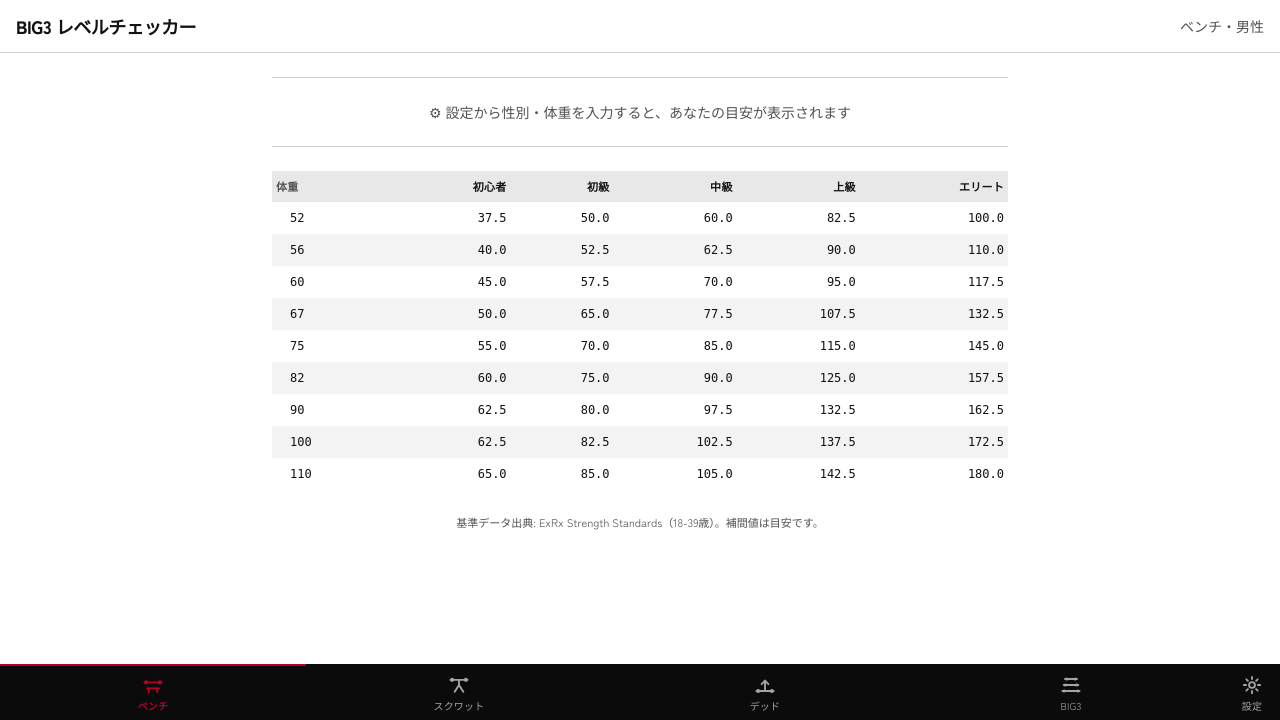
App › 設定で男性・70kg を保存するとサマリーとハイライト行が出る
This screenshot has width=1280, height=720.
Click the button "設定" at (1252, 692), box [1224,664,1279,719]
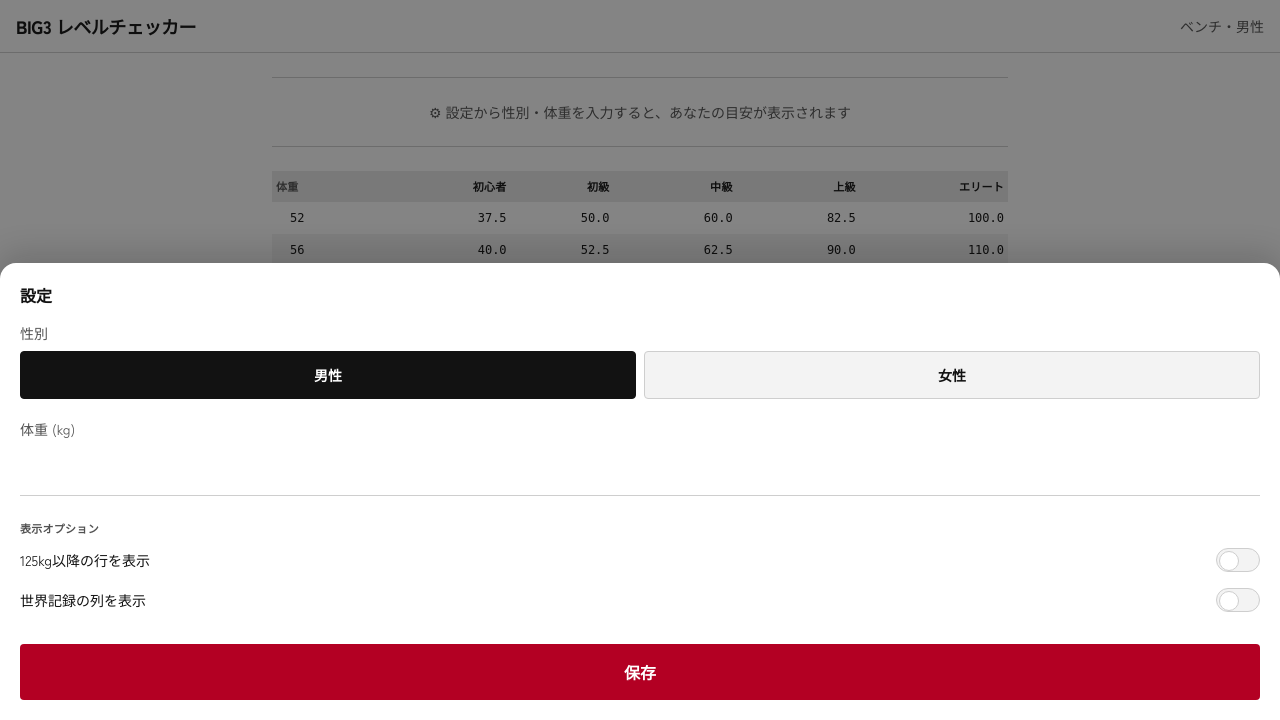
Type "70" into the number field labelled "体重 (kg)" at (640, 469), box [20,442,1260,496]
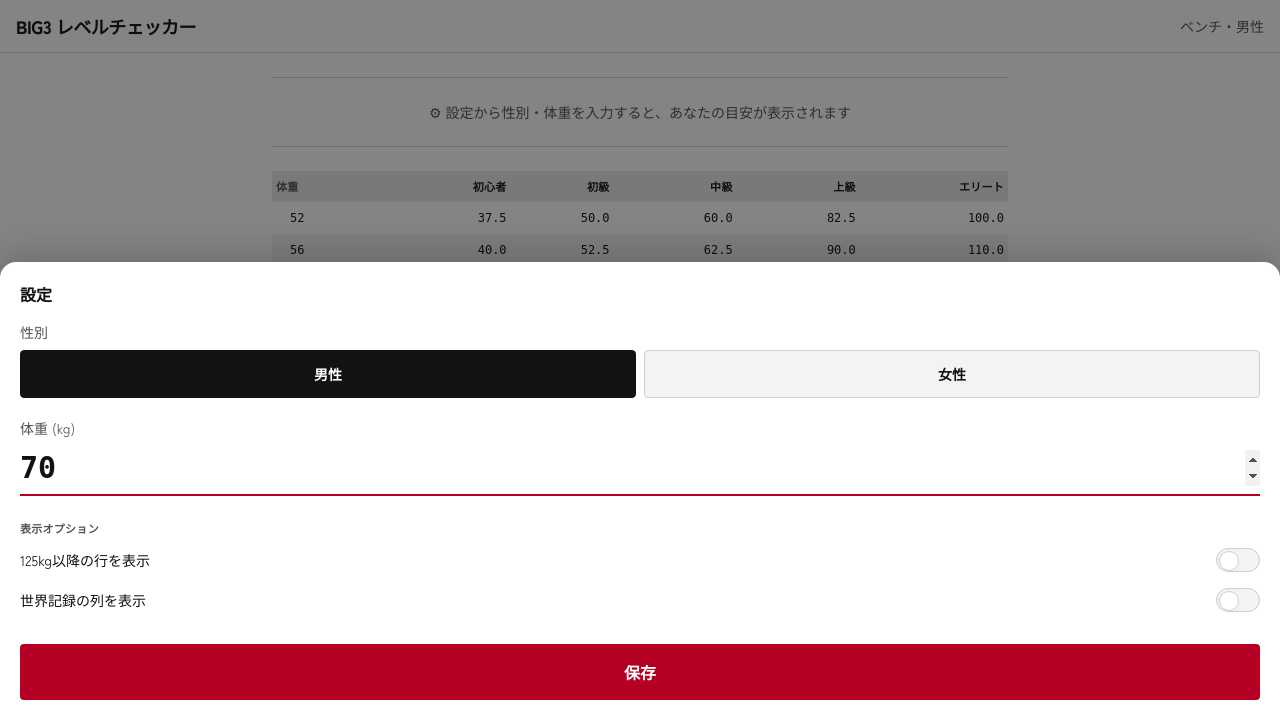
Click the button "保存" at (640, 672), box [20,644,1260,700]
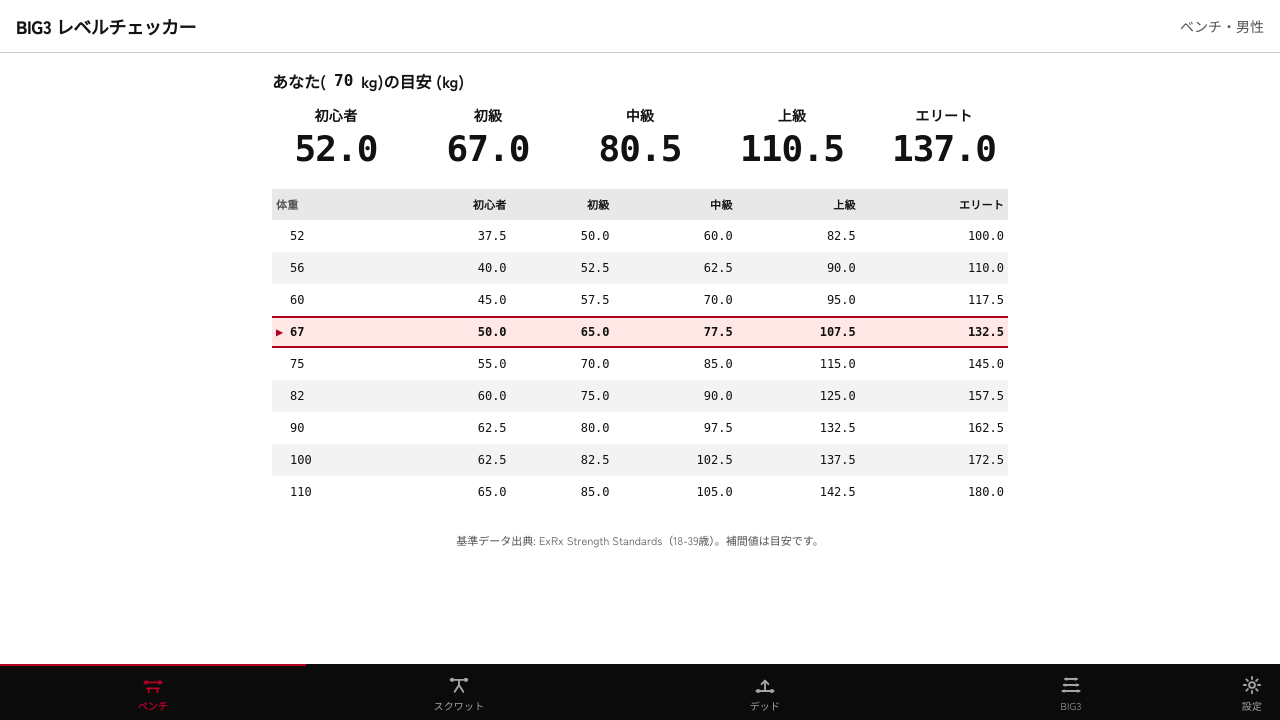
Now the text "80.5" is shown, box [598,128,682,169]
Now the row with test id "highlight-row" is shown, box [272,316,1008,348]
